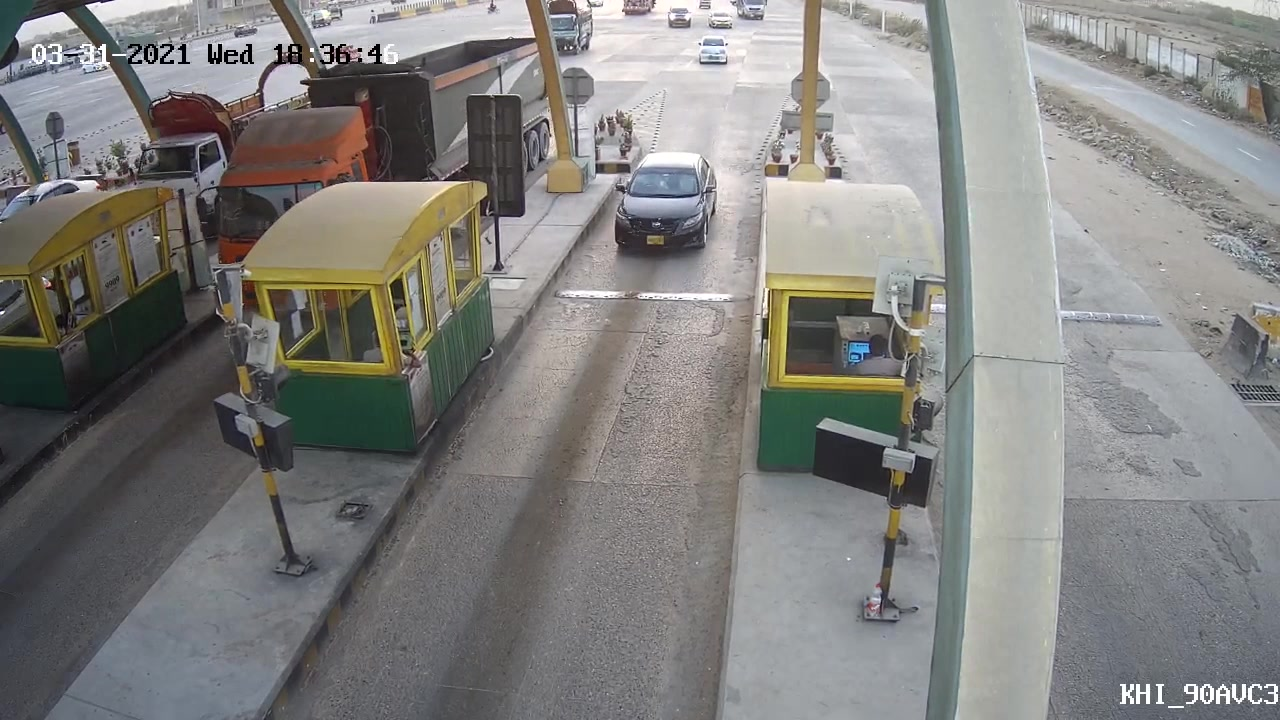F1: (607, 144, 720, 267)
